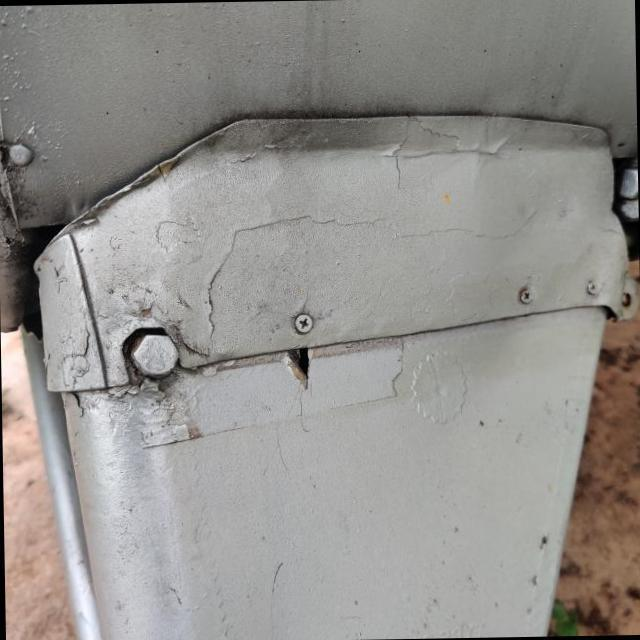Rupture: (269, 337, 328, 402)
